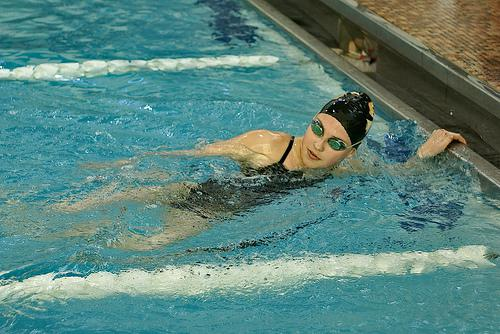human: (97, 88, 376, 254)
